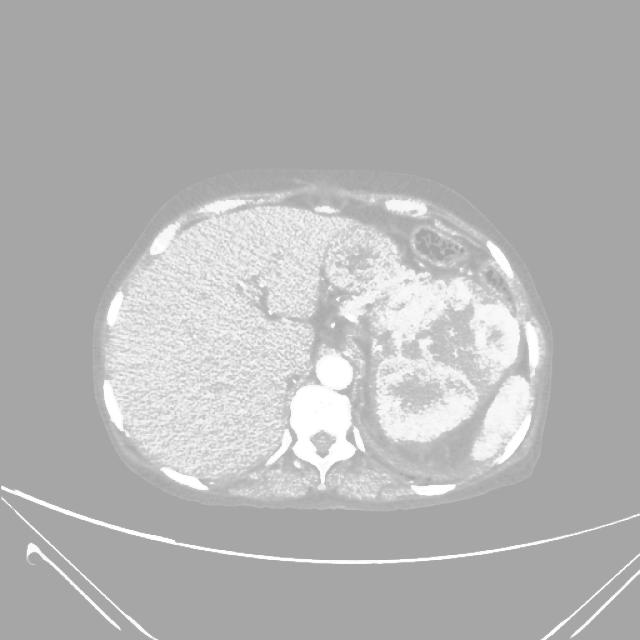TUMOR: (370, 286, 573, 530)
